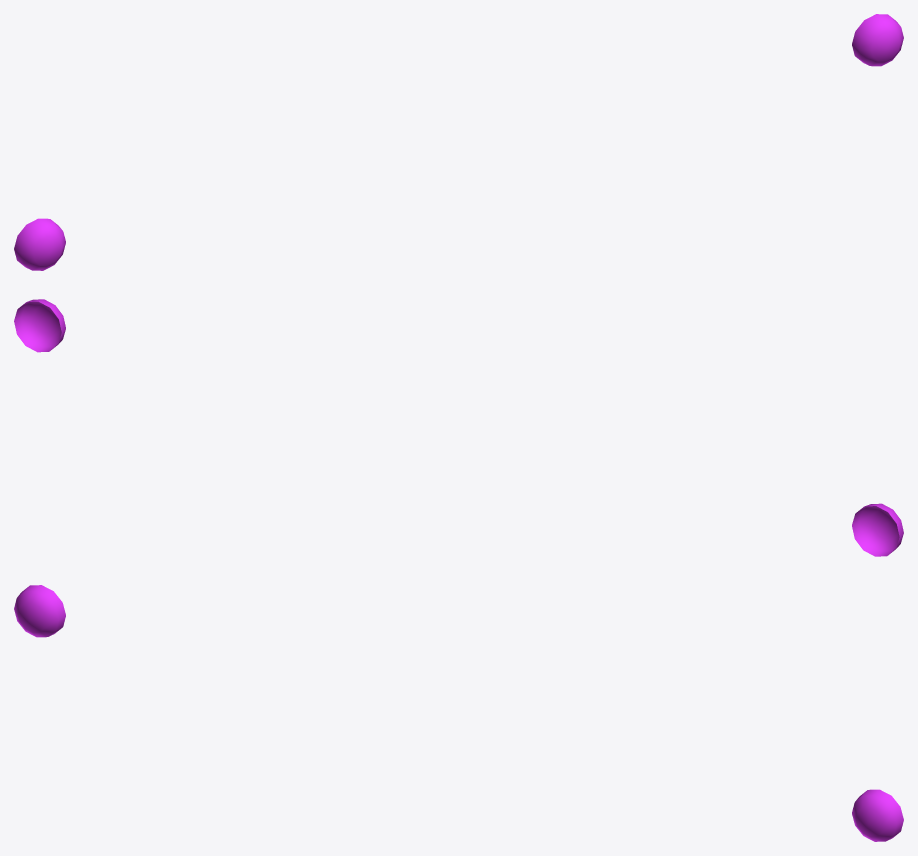
Rendered from Mini_FB01_Detail.fbx.
3 renders of one model, top to bottom at view 1: azimuth 30°, elevation 25°; view 2: azimuth 150°, elevation 25°; view 3: azimuth 330°, elevation 25°, orthographic.
Visible parts, largest first — view 1: Mini_FB01_Detail; view 2: Mini_FB01_Detail; view 3: Mini_FB01_Detail.
Boxes of the visible parts, x1,y1,x2,y2 form: Mini_FB01_Detail: [14, 14, 903, 270]; Mini_FB01_Detail: [14, 299, 903, 556]; Mini_FB01_Detail: [14, 585, 903, 841].
Bounding box in the file's own units: 113 × 6.07 × 2.72.
